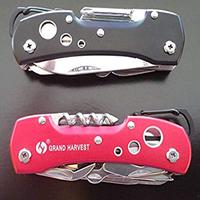knife: (8, 99, 194, 187), (7, 5, 189, 83)
